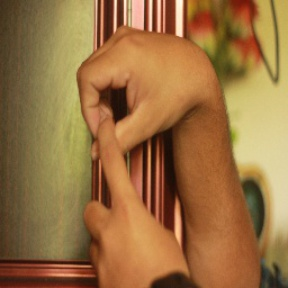Q: (75, 23, 205, 267)
